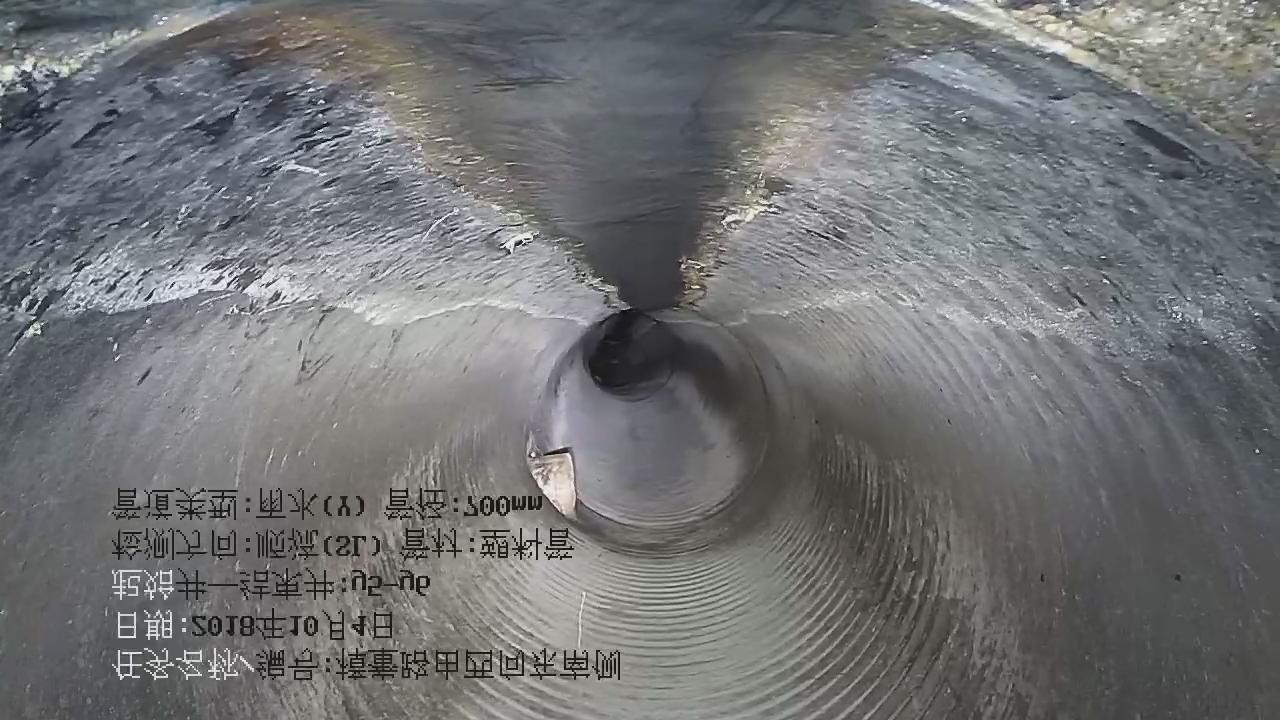CJ: (290, 1, 946, 310)
CKTJ: (577, 352, 770, 526)
ZGAJ: (527, 439, 576, 520)
